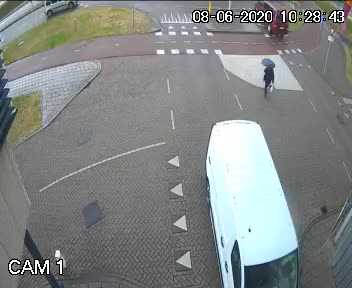car: (190, 105, 316, 288), (249, 0, 290, 44), (46, 0, 82, 18)
